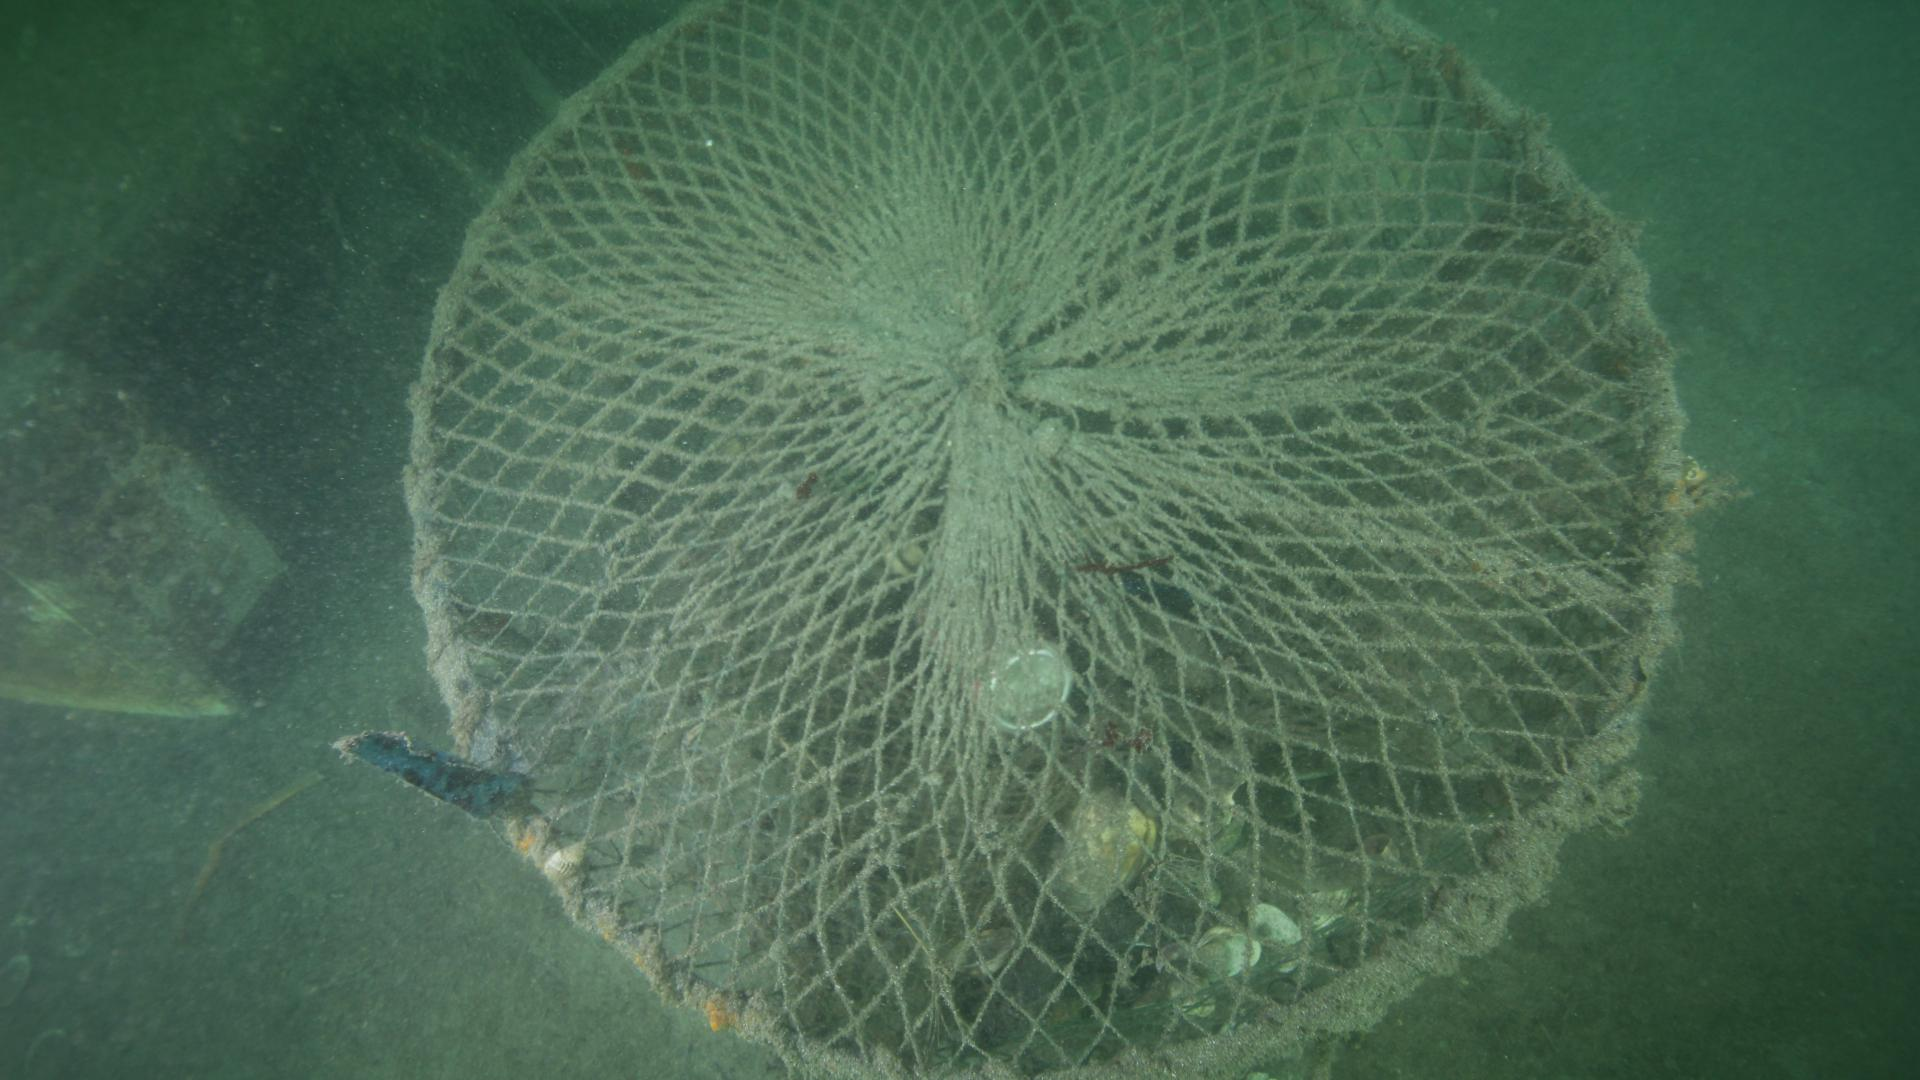circular fish trap: (404, 0, 1691, 1080)
